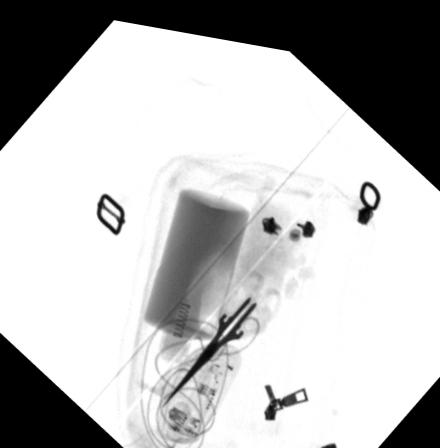Scissors: (161, 259, 279, 401)
